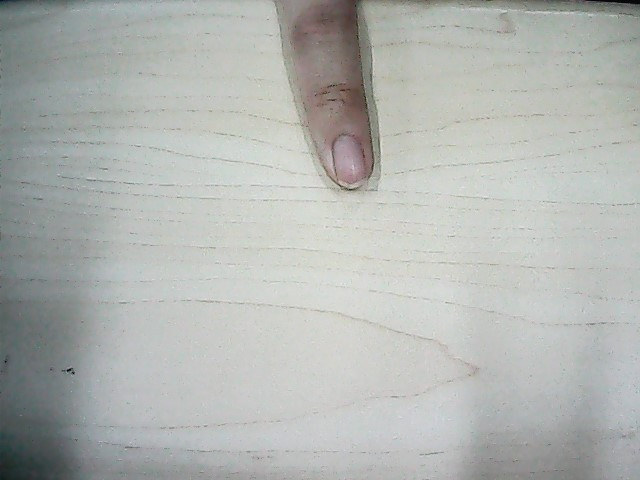nail: (331, 134, 368, 187)
